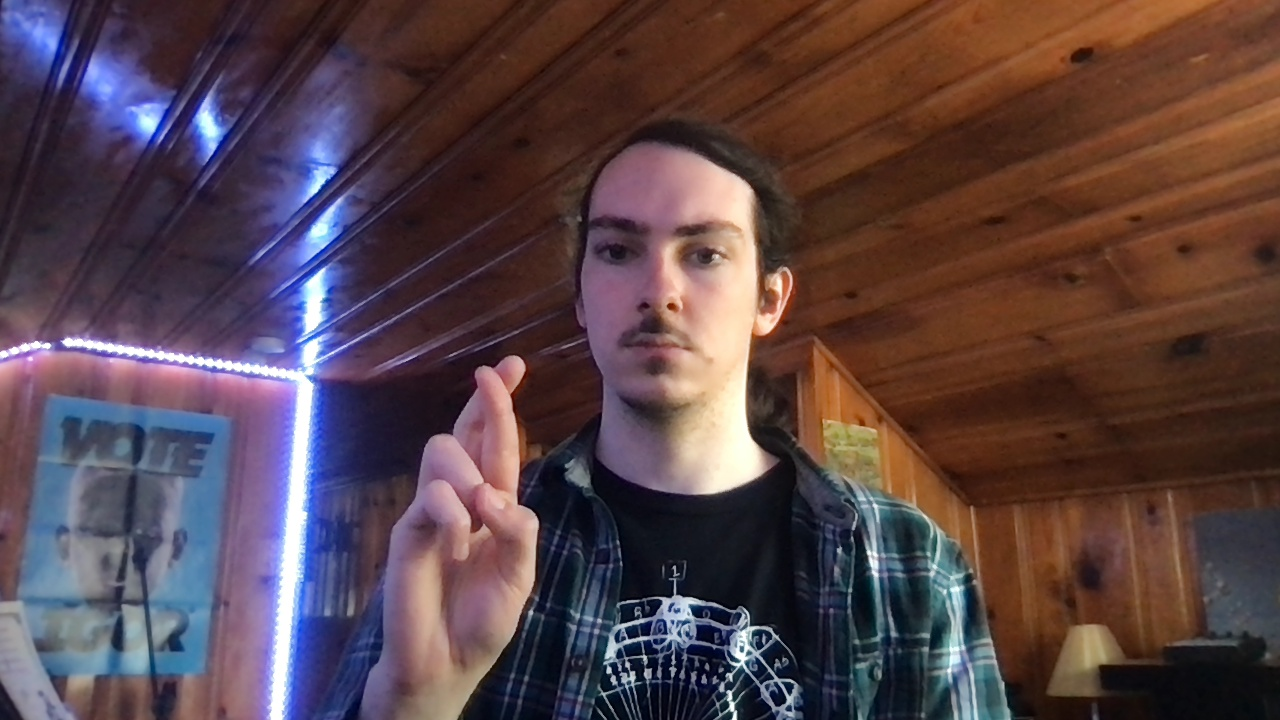r: (380, 353, 540, 681)
